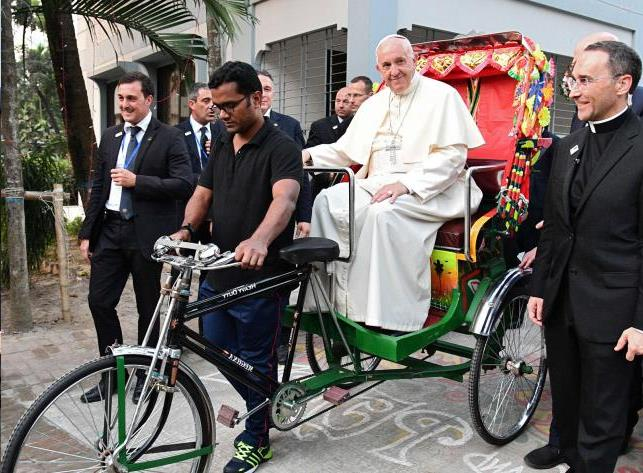Rickshaw: (71, 17, 557, 414)
